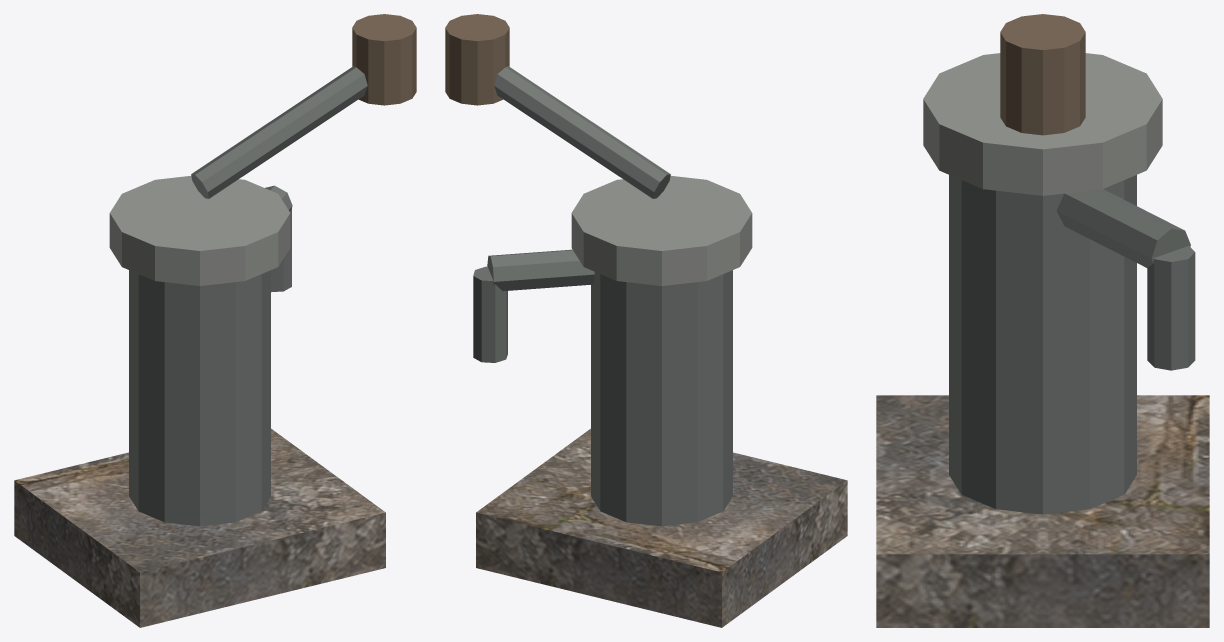
The model's file is wasserpumpe_hand.glb.
The picture shows the model from 3 angles, left to right: view 1: azimuth 30°, elevation 25°; view 2: azimuth 150°, elevation 25°; view 3: azimuth 270°, elevation 25°; orthographic projection. The views are drawn at different scales.
Visible parts, largest first — view 1: part_006, part_000, part_001, part_002, part_003, part_005; view 2: part_006, part_000, part_001, part_002, part_003, part_004, part_005; view 3: part_006, part_000, part_001, part_003, part_004, part_005.
Boxes of the visible parts, x1=… form: part_006: x1=14, y1=428, x2=385, y2=627; part_000: x1=129, y1=270, x2=270, y2=526; part_001: x1=109, y1=176, x2=290, y2=285; part_002: x1=191, y1=66, x2=367, y2=198; part_003: x1=352, y1=14, x2=416, y2=105; part_005: x1=271, y1=208, x2=291, y2=292; part_006: x1=476, y1=428, x2=847, y2=627; part_000: x1=591, y1=270, x2=732, y2=526; part_001: x1=571, y1=176, x2=752, y2=285; part_002: x1=494, y1=66, x2=670, y2=198; part_003: x1=445, y1=14, x2=509, y2=105; part_004: x1=487, y1=249, x2=594, y2=291; part_005: x1=473, y1=266, x2=507, y2=362; part_006: x1=876, y1=395, x2=1209, y2=627; part_000: x1=949, y1=175, x2=1136, y2=514; part_001: x1=923, y1=53, x2=1162, y2=195; part_003: x1=1000, y1=14, x2=1085, y2=135; part_004: x1=1056, y1=189, x2=1190, y2=267; part_005: x1=1147, y1=246, x2=1195, y2=370.
Size of the model in its own units: 1.2 by 1.64 by 0.78.
Materials: 1 (1 with a texture image).
